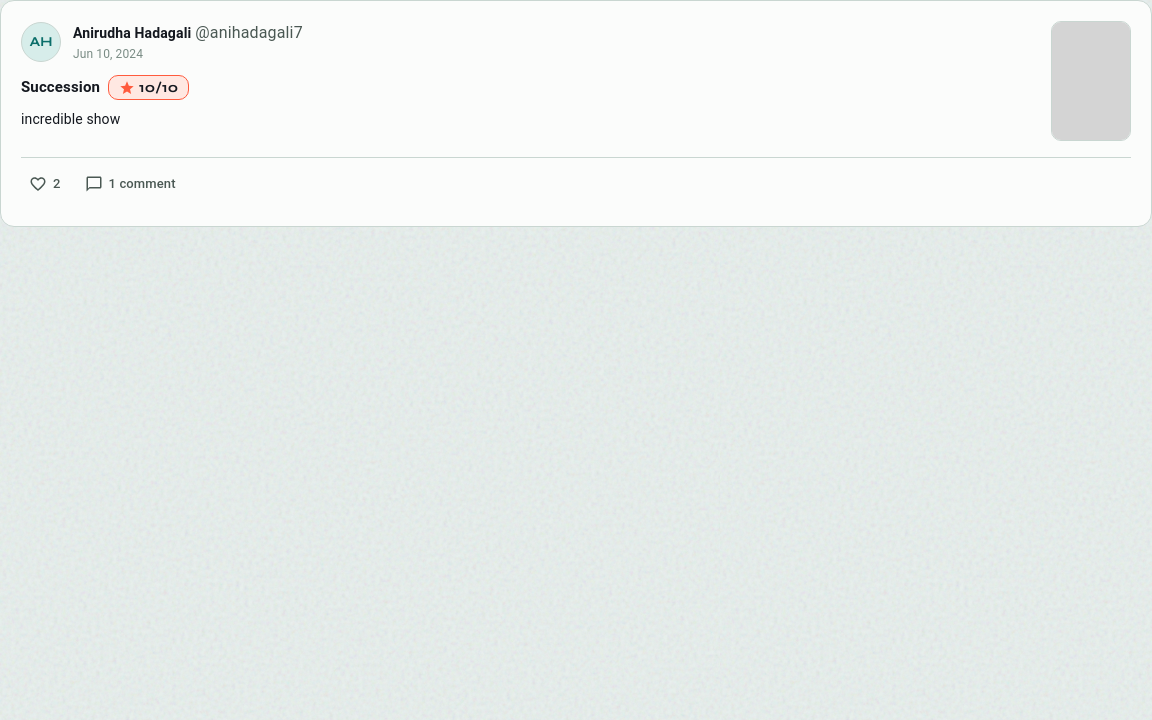
RatingCard › prompts login instead of liking when logged out
Click the button named "like".
click(45, 184)  # box [21,170,68,198]
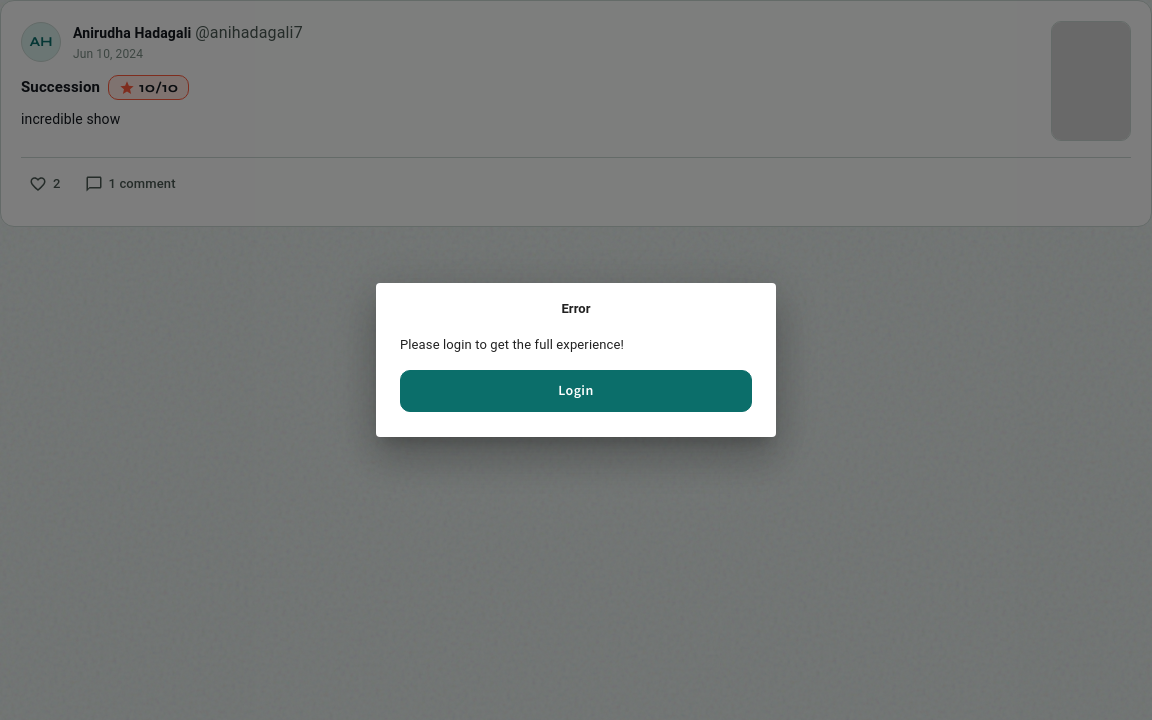
Expected: the text "Please login to get the full experience!" is shown, [400,337,624,352]
